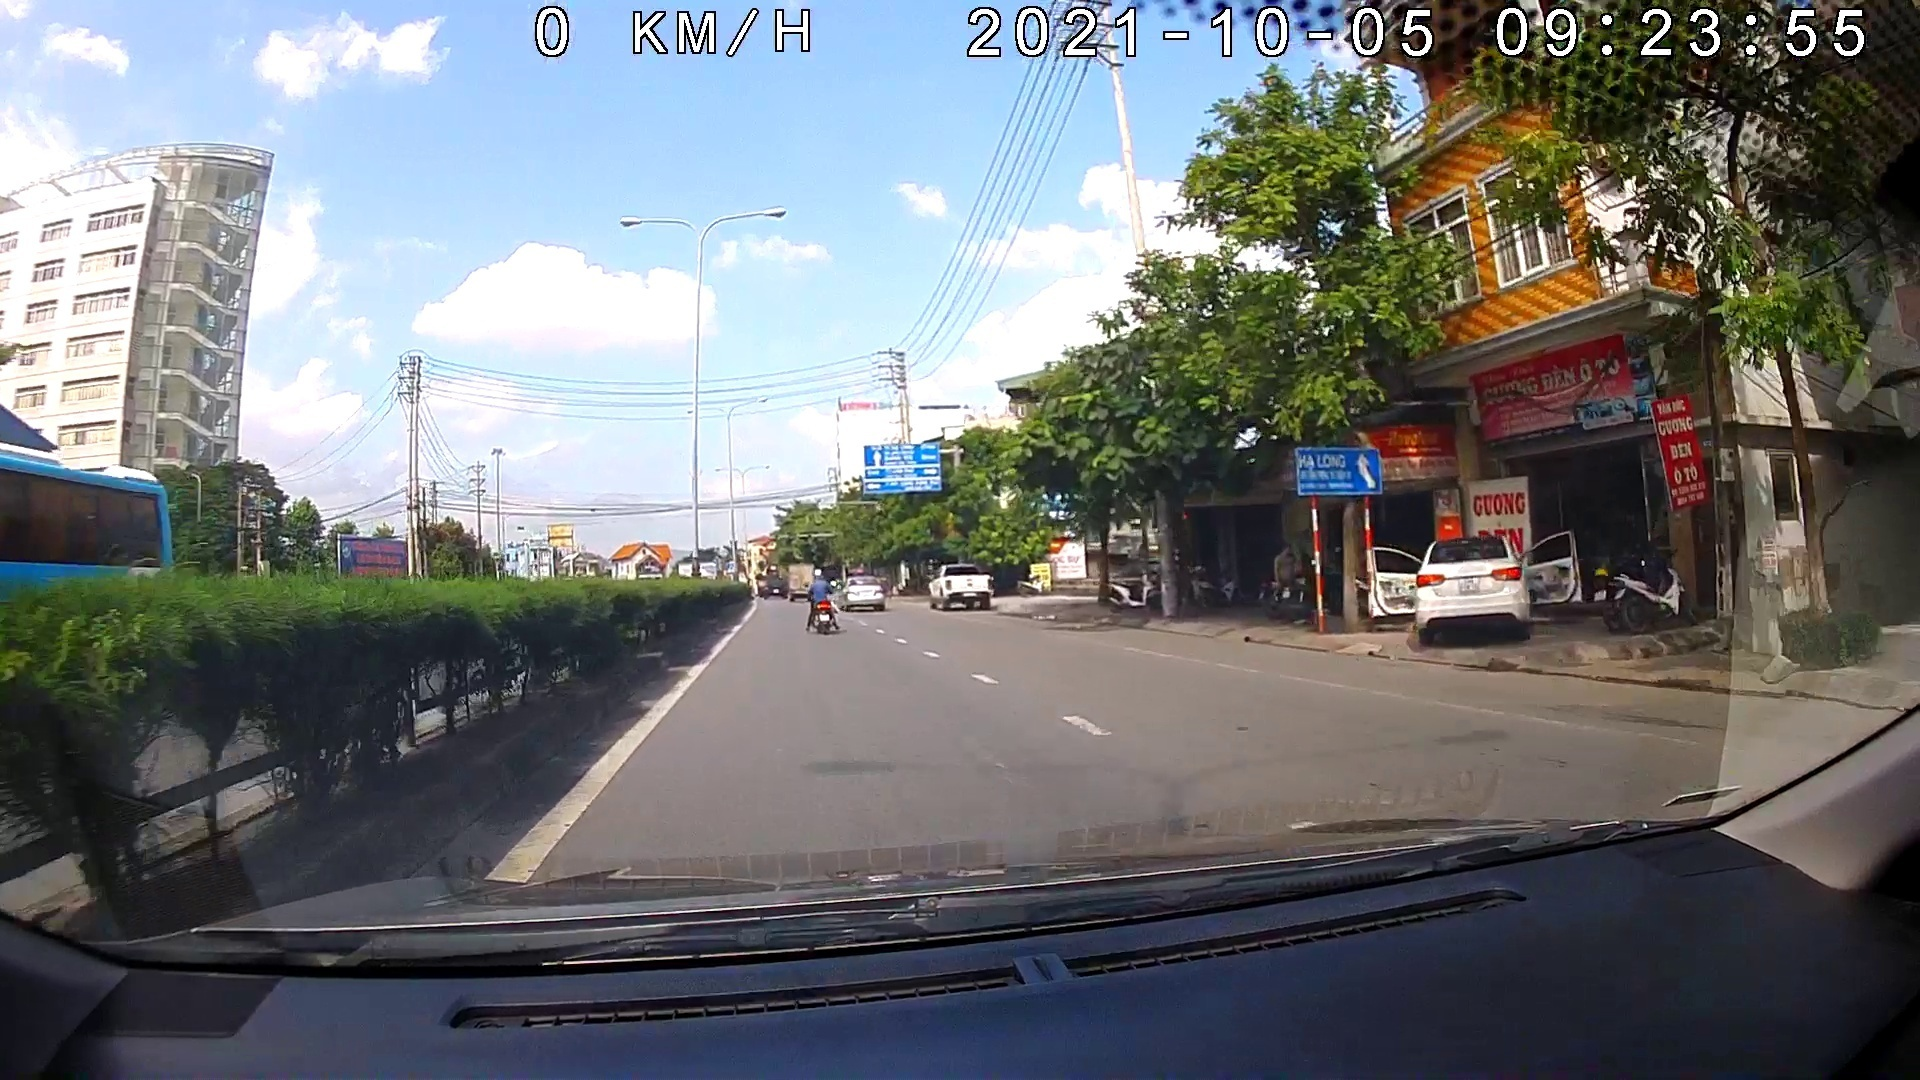Bien khac: (1298, 446, 1379, 497), (862, 442, 942, 491)
